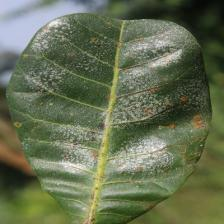red rust: (6, 13, 212, 224)
